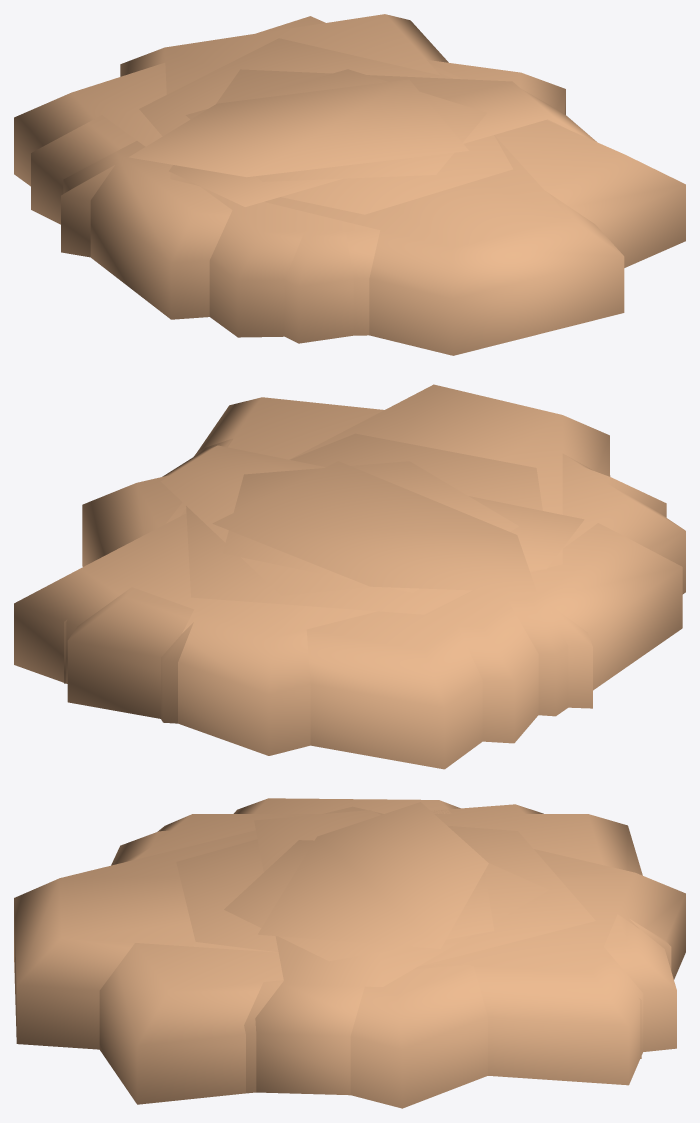
Rendered from Stones.fbx.
3 renders of one model, top to bottom at view 1: azimuth 30°, elevation 25°; view 2: azimuth 150°, elevation 25°; view 3: azimuth 270°, elevation 25°, orthographic. The views are drawn at different scales.
Visible parts, largest first — view 1: Stone_04, Stone_02, Stone_08, Stone_05, Stone_03, Stone_06, Stone_09, Stone_07; view 2: Stone_02, Stone_04, Stone_08, Stone_05, Stone_03, Stone_06, Stone_09, Stone_07; view 3: Stone_04, Stone_02, Stone_08, Stone_09, Stone_03, Stone_06, Stone_07, Stone_05.
Part boxes in pixels (x1=…): Stone_04: x1=120, y1=14, x2=624, y2=355; Stone_02: x1=14, y1=16, x2=685, y2=337; Stone_08: x1=61, y1=79, x2=468, y2=257; Stone_05: x1=63, y1=63, x2=566, y2=319; Stone_03: x1=31, y1=60, x2=565, y2=343; Stone_06: x1=139, y1=38, x2=512, y2=214; Stone_09: x1=169, y1=69, x2=596, y2=206; Stone_07: x1=185, y1=69, x2=486, y2=181; Stone_02: x1=67, y1=397, x2=685, y2=769; Stone_04: x1=14, y1=384, x2=610, y2=755; Stone_08: x1=212, y1=461, x2=592, y2=708; Stone_05: x1=64, y1=438, x2=682, y2=716; Stone_03: x1=82, y1=467, x2=666, y2=743; Stone_06: x1=186, y1=433, x2=542, y2=614; Stone_09: x1=161, y1=445, x2=584, y2=595; Stone_07: x1=222, y1=461, x2=518, y2=592; Stone_04: x1=14, y1=806, x2=685, y2=1085; Stone_02: x1=99, y1=814, x2=676, y2=1104; Stone_08: x1=258, y1=802, x2=488, y2=948; Stone_09: x1=254, y1=810, x2=548, y2=1095; Stone_03: x1=111, y1=804, x2=671, y2=1108; Stone_06: x1=176, y1=825, x2=595, y2=966; Stone_07: x1=224, y1=840, x2=494, y2=961; Stone_05: x1=233, y1=798, x2=641, y2=1093.
Size of the model in its own units: 91.44 by 15.48 by 105.
